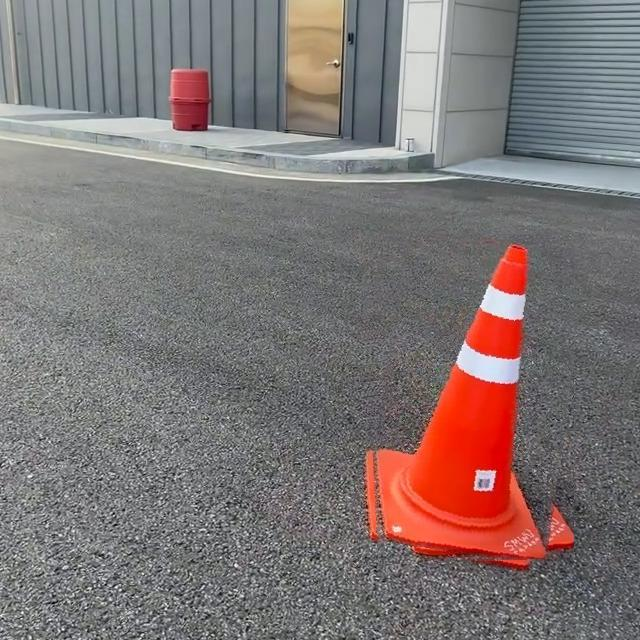fallen_object: (325, 110, 617, 640)
